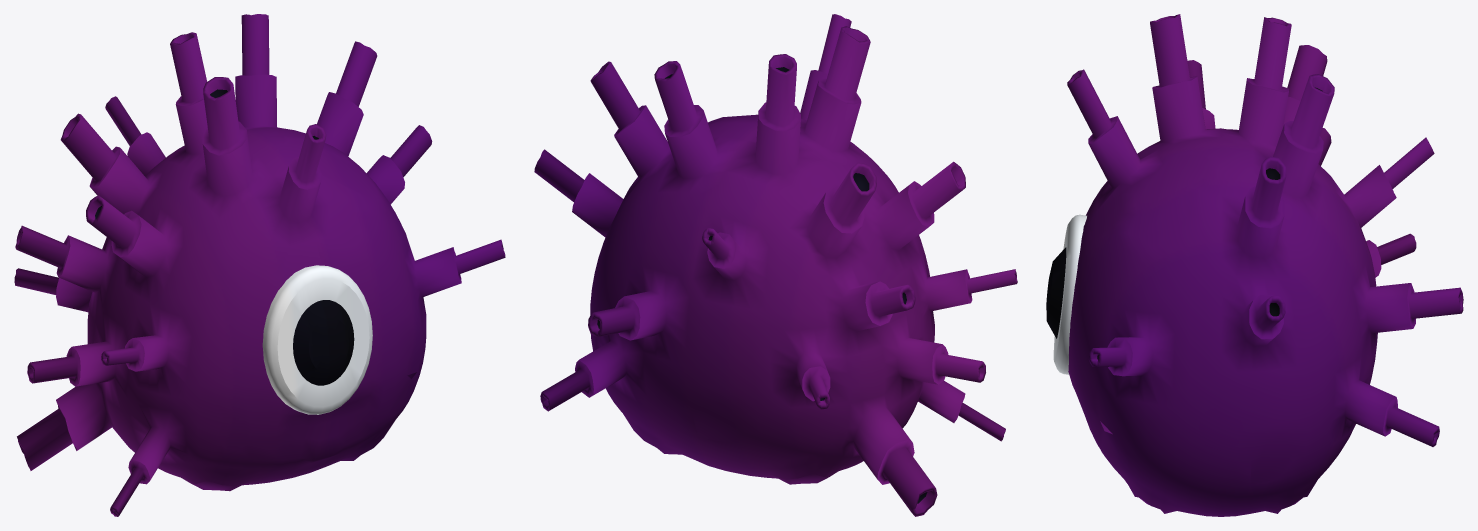
Rendered from Bacteria3.glb.
3 views of the same model, side by side, from view 1: azimuth 30°, elevation 25°; view 2: azimuth 150°, elevation 25°; view 3: azimuth 270°, elevation 25° (orthographic). The views are drawn at different scales.
Visible parts, largest first — view 1: Corpo, OlhosD; view 2: Corpo; view 3: Corpo, OlhosD.
Part boxes in pixels (x1=…): Corpo: x1=14, y1=14, x2=505, y2=516; OlhosD: x1=262, y1=265, x2=372, y2=414; Corpo: x1=534, y1=14, x2=1017, y2=516; Corpo: x1=1067, y1=14, x2=1463, y2=516; OlhosD: x1=1046, y1=214, x2=1086, y2=374.
Size of the model in its own units: 2.02 by 1.97 by 1.65.
Materials: 1 (1 with a texture image).
